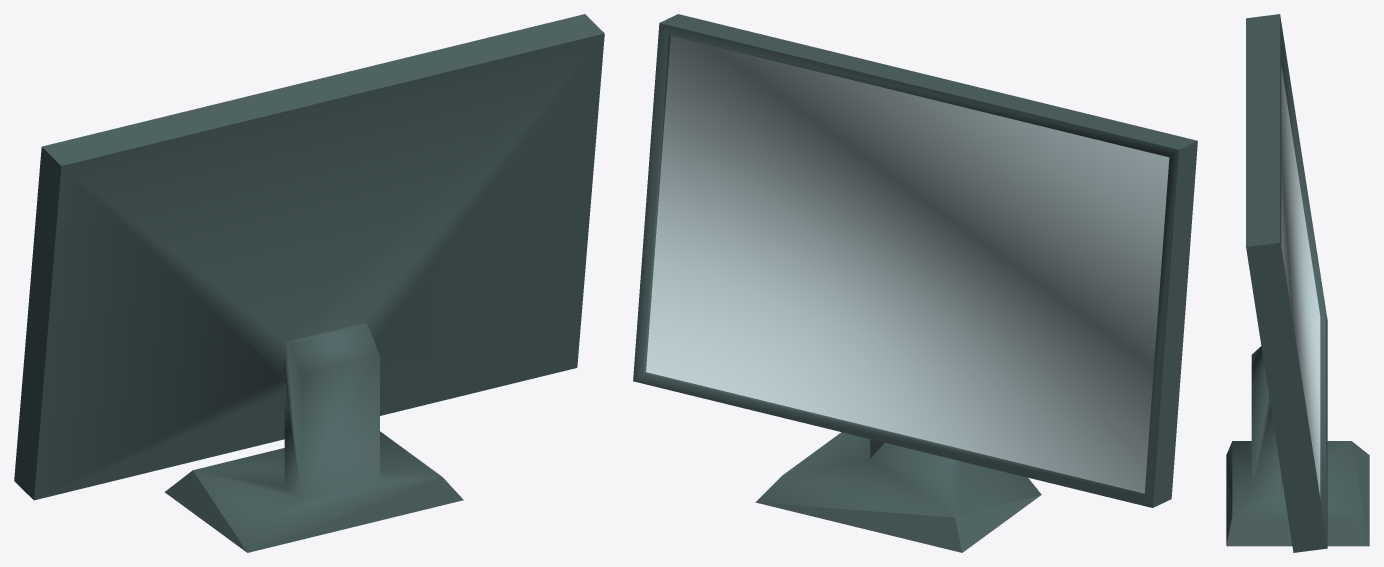
The model's file is computer-screen.glb.
3 views of the same model, side by side, from view 1: azimuth 30°, elevation 25°; view 2: azimuth 150°, elevation 25°; view 3: azimuth 270°, elevation 25° (orthographic). The views are drawn at different scales.
Parts seen in each view (by area): view 1: computer-screen; view 2: computer-screen; view 3: computer-screen.
Boxes of the visible parts, <box> form: computer-screen: <box>14,14,604,552</box>; computer-screen: <box>633,14,1197,552</box>; computer-screen: <box>1226,14,1369,552</box>.
Size of the model in its own units: 0.5 by 0.3747 by 0.1324.
